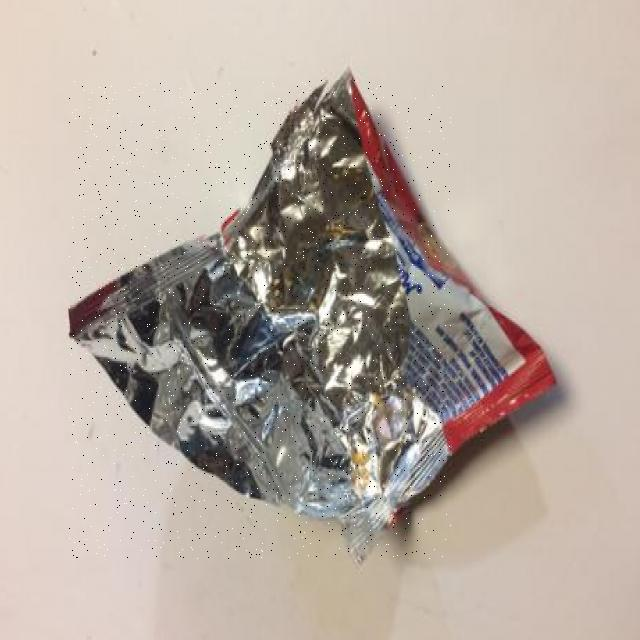metal: (69, 80, 451, 559)
